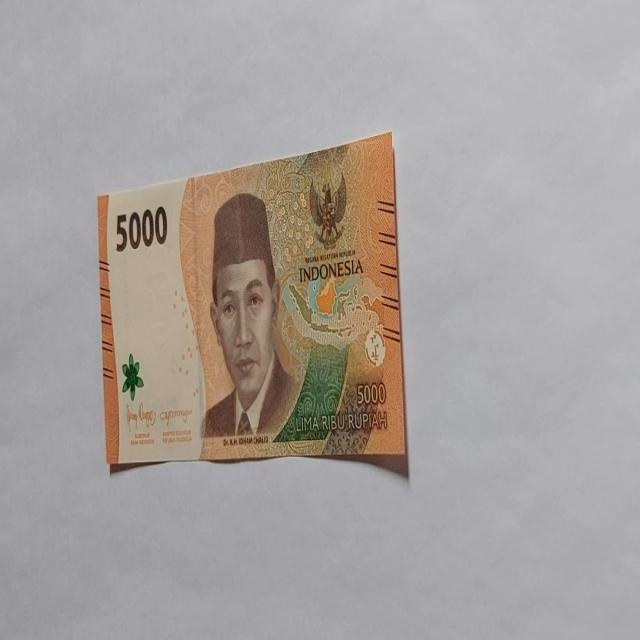lima ribu rupiah: (97, 132, 409, 476), (200, 191, 300, 442)
